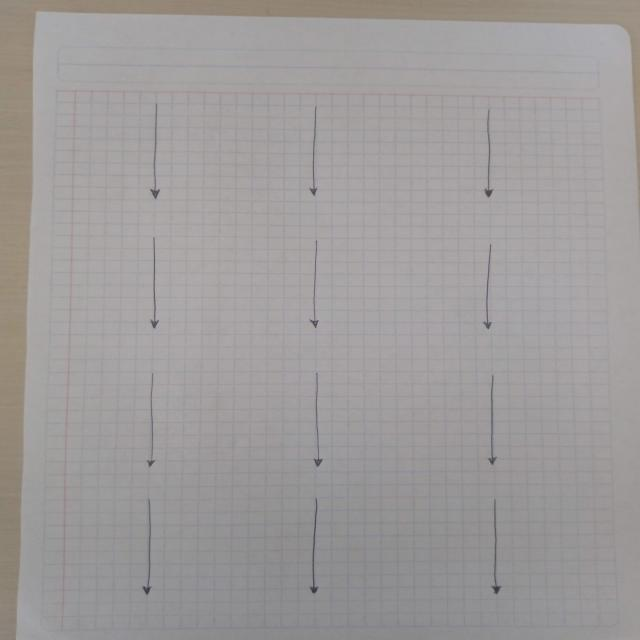arrow_line_down: (477, 498, 515, 605), (304, 371, 338, 474), (477, 107, 511, 205), (304, 102, 335, 208), (304, 240, 339, 332), (482, 372, 512, 474), (140, 103, 170, 203), (140, 369, 168, 469), (474, 240, 504, 332), (143, 237, 171, 333), (138, 497, 164, 596), (306, 495, 325, 596)
